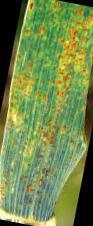Wheat: (17, 70, 84, 132), (31, 5, 86, 67), (4, 169, 53, 207), (7, 137, 73, 162)
